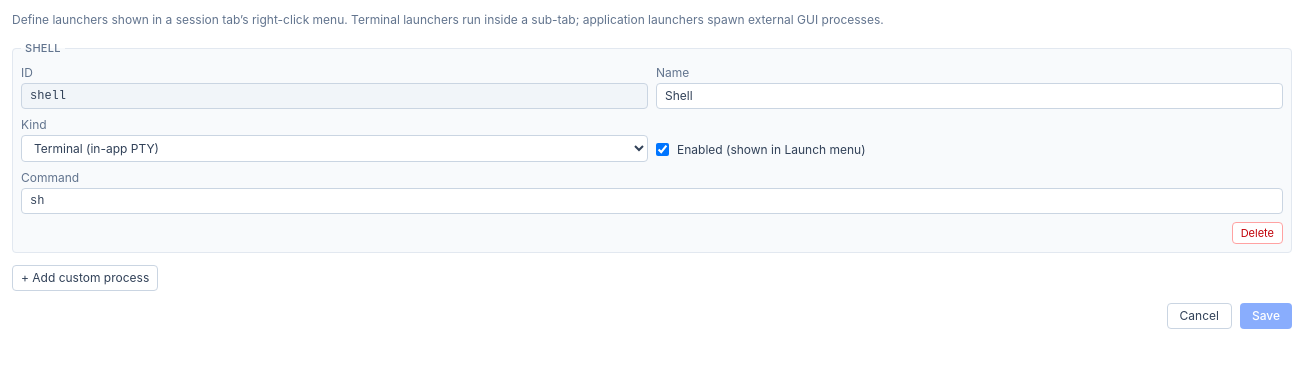
Test: CustomProcessesTab › surfaces backend errors without closing the tab
This screenshot has width=1304, height=384.
Click the checkbox named "Enabled: shell".
click(662, 150)  # box [656,143,669,156]
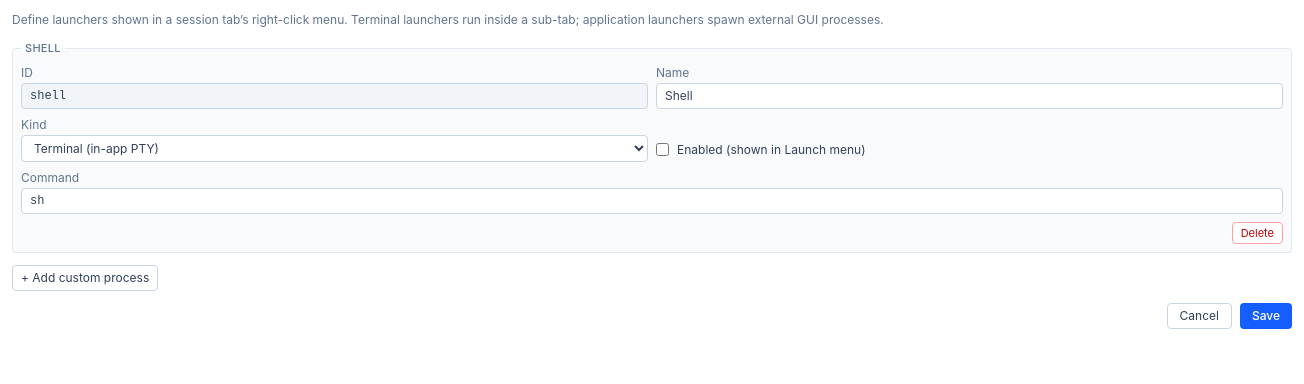
Click the button with test id "custom-processes-save".
click(1266, 316)  # box [1240,303,1292,329]
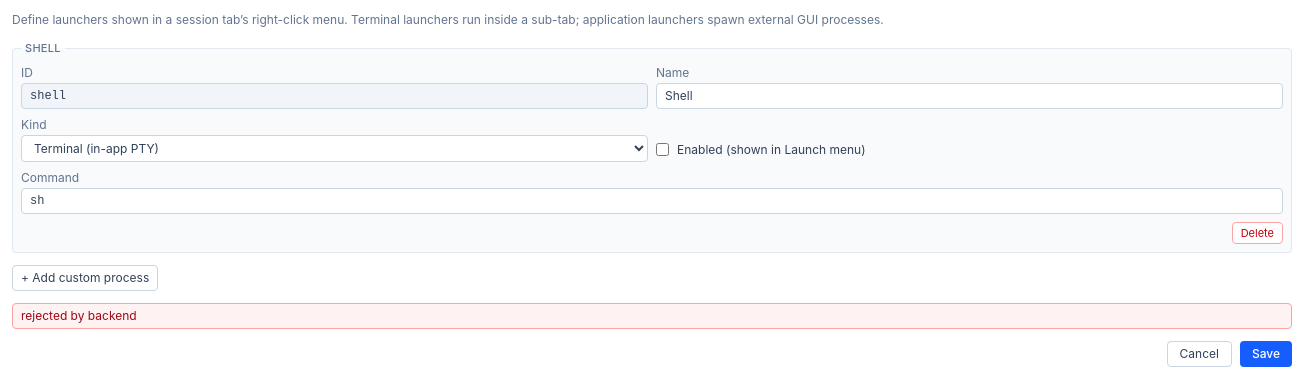
expect the message with test id "settings-error" reads "rejected by backend": met, box [21,308,137,323]
